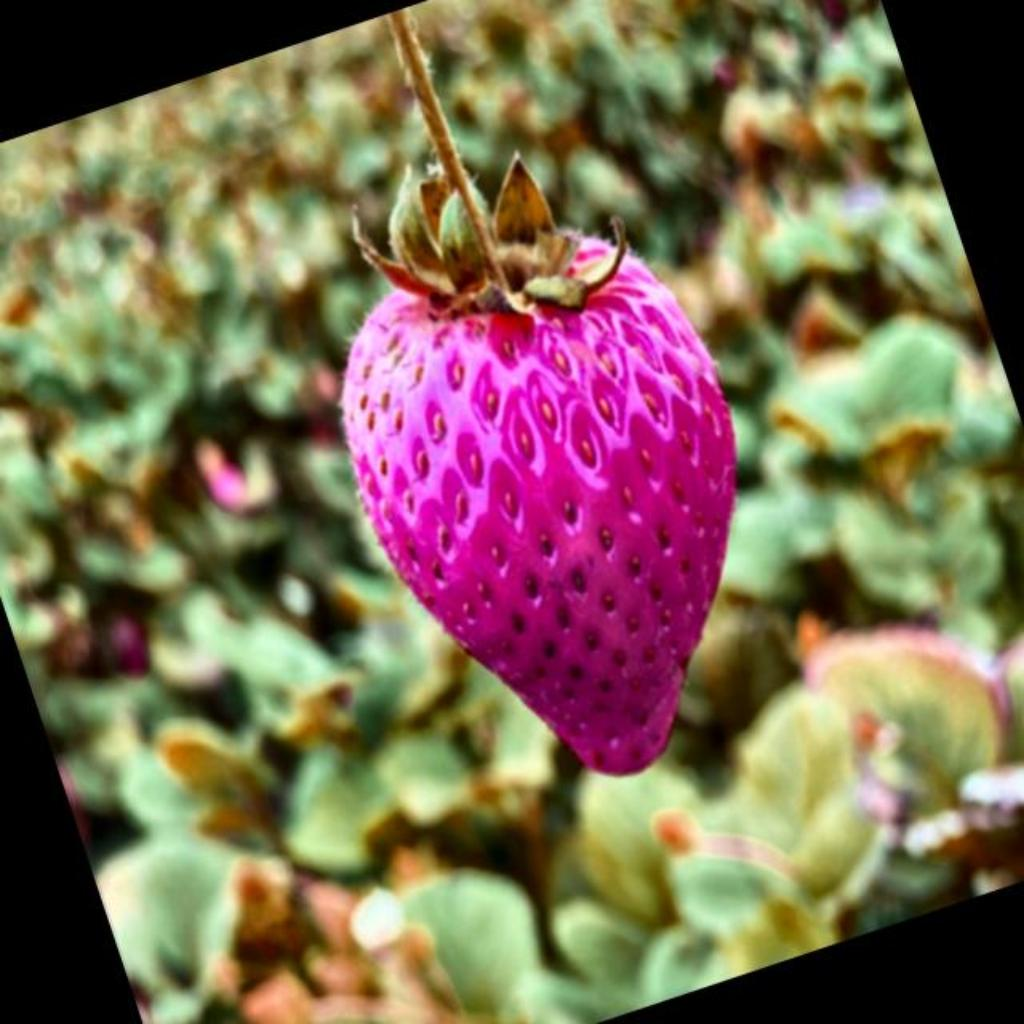strawberry: (344, 12, 736, 773)
